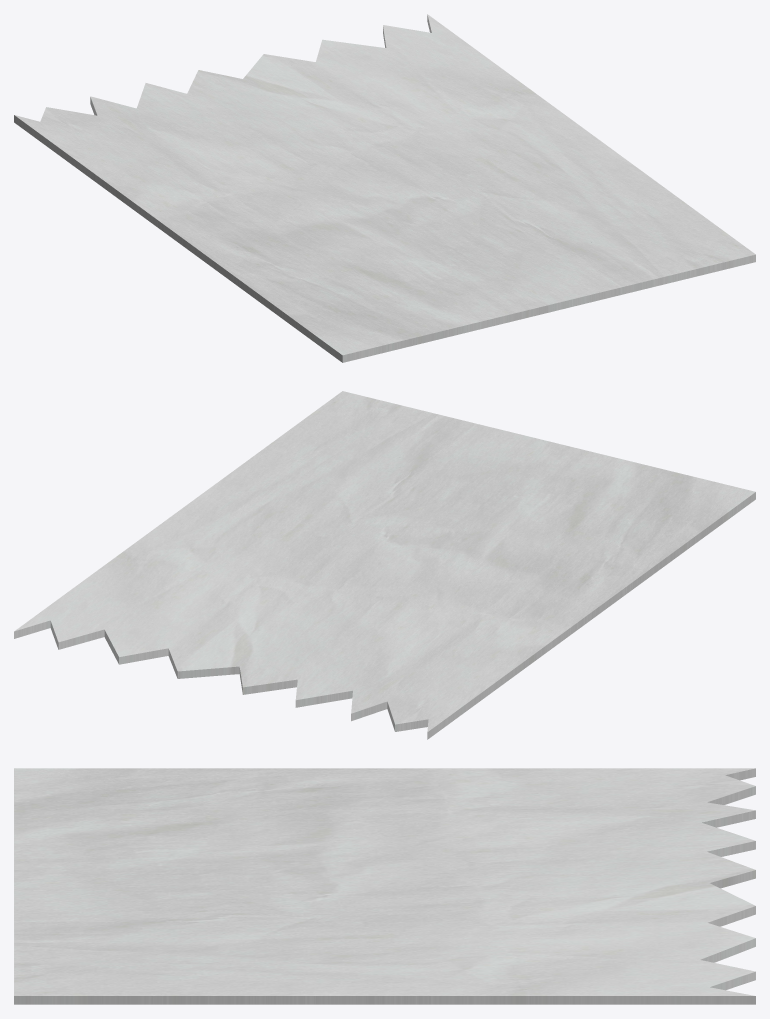
The model's file is cheque.fbx.
3 views of the same model, one above another, from view 1: azimuth 30°, elevation 25°; view 2: azimuth 150°, elevation 25°; view 3: azimuth 270°, elevation 25° (orthographic). The views are drawn at different scales.
Visible parts, largest first — view 1: Plane.001; view 2: Plane.001; view 3: Plane.001.
Part boxes in pixels (x1,y1,x2,y2): Plane.001: (14,14,755,362); Plane.001: (14,391,755,739); Plane.001: (14,768,755,1004).
Bounding box in the file's own units: 21 × 0.367 × 28.91.
1 material, 1 textured.
